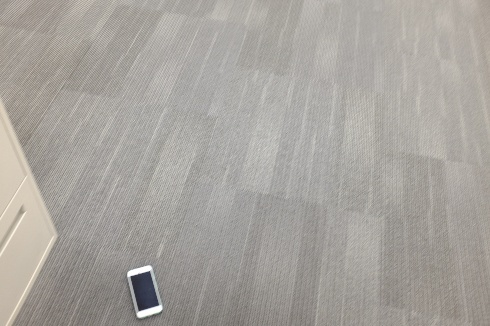phone: (120, 276, 169, 308)
